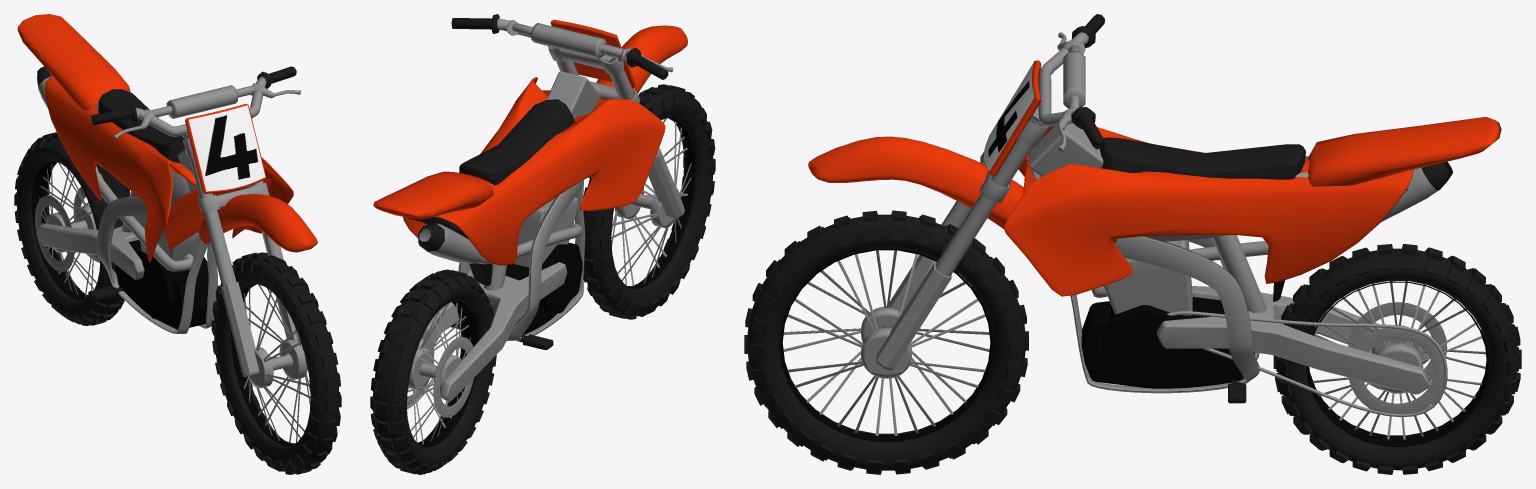
File: VEH_DirtBike.glb
3 renders of one model, left to right at view 1: azimuth 30°, elevation 25°; view 2: azimuth 150°, elevation 25°; view 3: azimuth 270°, elevation 25°, orthographic. The views are drawn at different scales.
Visible parts, largest first — view 1: Body_GEO, FrontWheel_GEO, Handle_GEO, RearWheel_GEO, Engine_GEO, RearWheelChain_GEO, FrontShock_GEO; view 2: Body_GEO, RearWheel_GEO, FrontWheel_GEO, Engine_GEO, Handle_GEO, RearWheelChain_GEO, FrontShock_GEO; view 3: Body_GEO, FrontWheel_GEO, RearWheel_GEO, Engine_GEO, Handle_GEO, RearWheelChain_GEO, FrontShock_GEO.
Part boxes in pixels (x1,y1,x2,y2): Body_GEO: [17, 14, 293, 262]; FrontWheel_GEO: [211, 252, 341, 474]; Handle_GEO: [91, 66, 317, 285]; RearWheel_GEO: [14, 132, 124, 325]; Engine_GEO: [37, 66, 217, 333]; RearWheelChain_GEO: [37, 187, 144, 279]; FrontShock_GEO: [220, 282, 298, 376]; Body_GEO: [373, 71, 665, 290]; RearWheel_GEO: [370, 269, 496, 474]; FrontWheel_GEO: [583, 84, 715, 319]; Engine_GEO: [418, 107, 594, 349]; Handle_GEO: [451, 14, 687, 155]; RearWheelChain_GEO: [407, 262, 567, 409]; FrontShock_GEO: [648, 147, 684, 218]; Body_GEO: [1003, 117, 1501, 312]; FrontWheel_GEO: [744, 210, 1028, 474]; RearWheel_GEO: [1273, 244, 1521, 474]; Engine_GEO: [1031, 161, 1452, 403]; Handle_GEO: [808, 14, 1104, 276]; RearWheelChain_GEO: [1157, 286, 1447, 417]; FrontShock_GEO: [876, 255, 951, 370].
Size of the model in its own units: 0.7983 by 1.2 by 2.09.
Materials: 5 (1 with a texture image).
